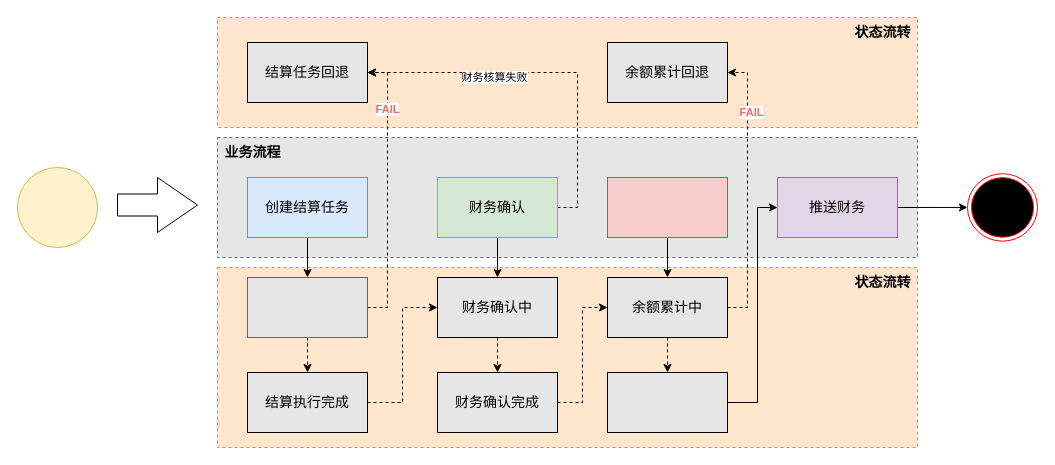
This 1055x465 diagram has some shape labels left out. The shapes that lost their labels are listed below. From the top down, each one's centre as x and y in pixels, then its label:
point (57, 207): 月结开始
point (667, 207): 余额累计
point (307, 307): 结算执行中
point (667, 402): 余额累计完成
